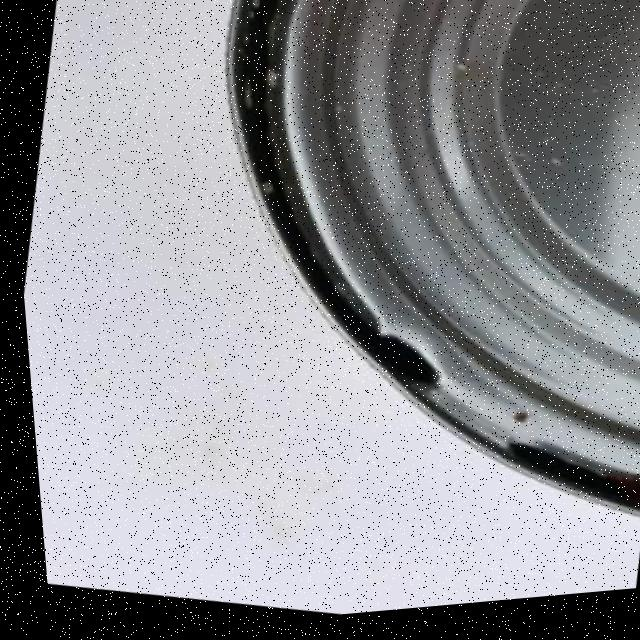metal: (124, 0, 640, 578)
